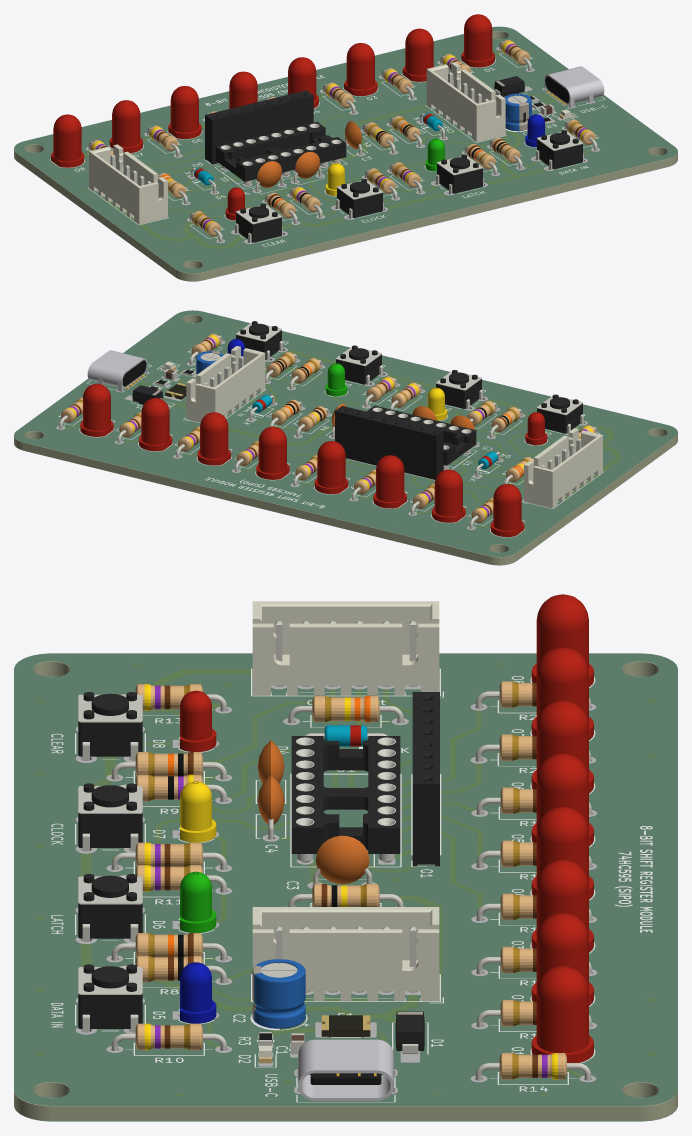
Rendered from 74HC595-module.glb.
3 views of the same model, one above another, from view 1: azimuth 30°, elevation 25°; view 2: azimuth 150°, elevation 25°; view 3: azimuth 270°, elevation 25° (orthographic). The views are drawn at different scales.
Parts seen in each view (by area): view 1: =>[0:1:1:61], =>[0:1:1:63], =>[0:1:1:18] (×8), =>[0:1:1:20] (×2), =>[0:1:1:28] (×4), =>[0:1:1:34], =>[0:1:1:30], =>[0:1:1:5] (×8), =>[0:1:1:59], =>[0:1:1:56], =>[0:1:1:7] (×3), =>[0:1:1:57] (+12 smaller); view 2: =>[0:1:1:61], =>[0:1:1:63], =>[0:1:1:18] (×8), =>[0:1:1:20] (×2), =>[0:1:1:30], =>[0:1:1:28] (×4), =>[0:1:1:59], =>[0:1:1:34], =>[0:1:1:56], =>[0:1:1:16] (×3), =>[0:1:1:5] (×3), shell (+9 smaller); view 3: =>[0:1:1:61], =>[0:1:1:63], =>[0:1:1:20] (×2), =>[0:1:1:18] (×8), =>[0:1:1:5] (×12), =>[0:1:1:28] (×4), =>[0:1:1:34], =>[0:1:1:59], =>[0:1:1:56], shell, =>[0:1:1:30], =>[0:1:1:57] (+14 smaller).
Boxes of the visible parts, bbox=[...] form: =>[0:1:1:61]: bbox=[14, 26, 677, 273]; =>[0:1:1:63]: bbox=[14, 27, 677, 281]; =>[0:1:1:18] (×8): bbox=[51, 14, 494, 167]; =>[0:1:1:20] (×2): bbox=[89, 62, 505, 224]; =>[0:1:1:28] (×4): bbox=[235, 130, 583, 242]; =>[0:1:1:34]: bbox=[215, 122, 346, 185]; =>[0:1:1:30]: bbox=[205, 90, 313, 164]; =>[0:1:1:5] (×8): bbox=[147, 39, 597, 242]; =>[0:1:1:59]: bbox=[50, 52, 606, 246]; =>[0:1:1:56]: bbox=[68, 43, 626, 258]; =>[0:1:1:7] (×3): bbox=[255, 121, 361, 192]; =>[0:1:1:57]: bbox=[85, 47, 600, 243]; =>[0:1:1:61]: bbox=[14, 310, 677, 556]; =>[0:1:1:63]: bbox=[14, 311, 677, 565]; =>[0:1:1:18] (×8): bbox=[80, 383, 524, 536]; =>[0:1:1:20] (×2): bbox=[186, 346, 602, 508]; =>[0:1:1:30]: bbox=[335, 406, 443, 479]; =>[0:1:1:28] (×4): bbox=[236, 321, 583, 433]; =>[0:1:1:59]: bbox=[58, 341, 603, 537]; =>[0:1:1:34]: bbox=[367, 405, 476, 469]; =>[0:1:1:56]: bbox=[53, 326, 641, 542]; =>[0:1:1:16] (×3): bbox=[270, 358, 522, 437]; =>[0:1:1:5] (×3): bbox=[189, 333, 422, 409]; shell: bbox=[87, 350, 147, 391]; =>[0:1:1:61]: bbox=[14, 653, 677, 1105]; =>[0:1:1:63]: bbox=[14, 654, 677, 1120]; =>[0:1:1:20] (×2): bbox=[252, 601, 439, 1000]; =>[0:1:1:18] (×8): bbox=[531, 594, 593, 1062]; =>[0:1:1:5] (×12): bbox=[111, 681, 591, 1080]; =>[0:1:1:28] (×4): bbox=[78, 692, 142, 1032]; =>[0:1:1:34]: bbox=[291, 736, 400, 862]; =>[0:1:1:59]: bbox=[51, 668, 652, 1102]; =>[0:1:1:56]: bbox=[37, 663, 654, 1096]; shell: bbox=[298, 1039, 393, 1100]; =>[0:1:1:30]: bbox=[412, 692, 439, 866]; =>[0:1:1:57]: bbox=[75, 685, 597, 1093].
Size of the model in its own units: 0.1 by 0.0141 by 0.062.
